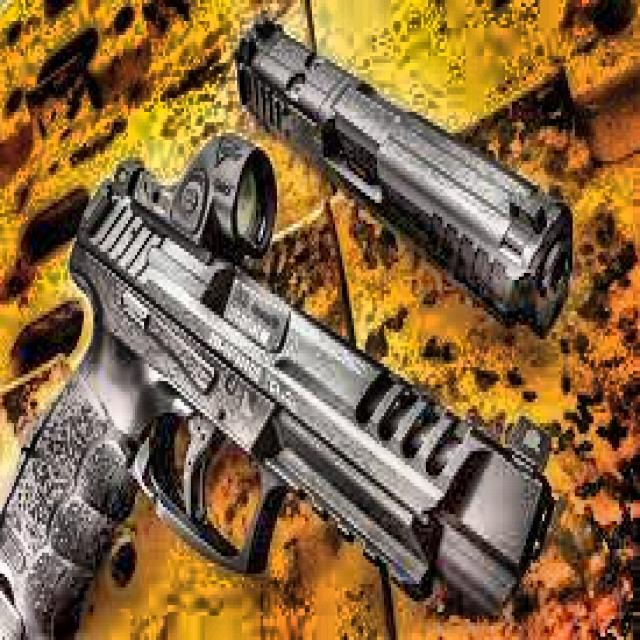HKVP9: (0, 126, 554, 636)
